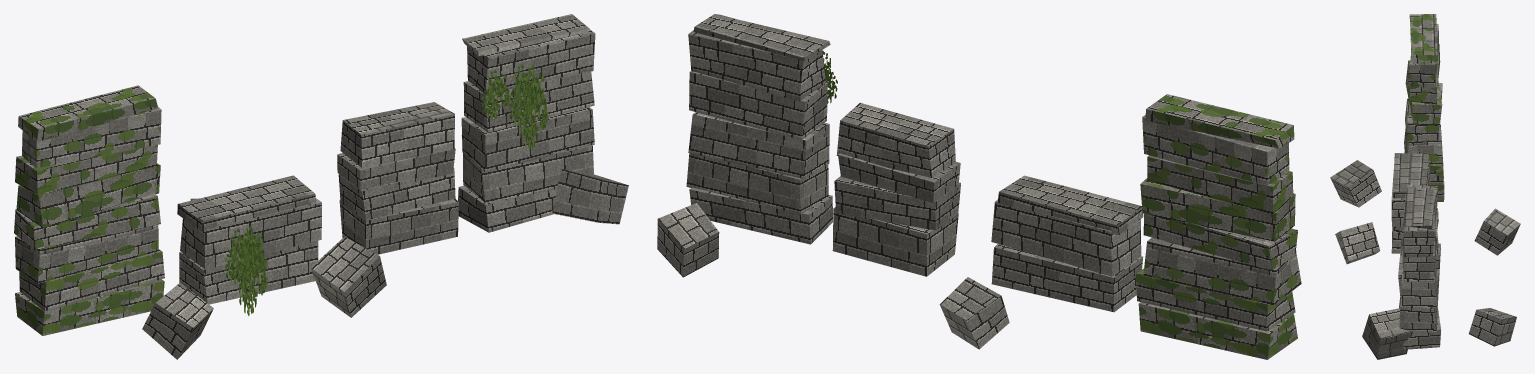
File: prop_ruins_a.glb
The picture shows the model from 3 angles, left to right: view 1: azimuth 30°, elevation 25°; view 2: azimuth 150°, elevation 25°; view 3: azimuth 270°, elevation 25°; orthographic projection. The views are drawn at different scales.
Parts seen in each view (by area): view 1: prop_ruins_a; view 2: prop_ruins_a; view 3: prop_ruins_a.
Boxes of the visible parts, x1,y1,x2,y2 form: prop_ruins_a: (14, 14, 628, 359); prop_ruins_a: (657, 14, 1301, 359); prop_ruins_a: (1330, 14, 1520, 359).
Size of the model in its own units: 13.84 by 5.71 by 5.61.
3 materials, 3 textured.
